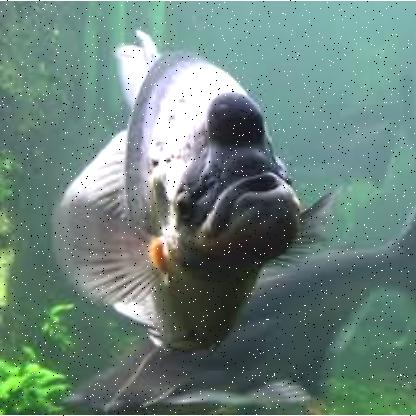gurame: (74, 38, 304, 358)
